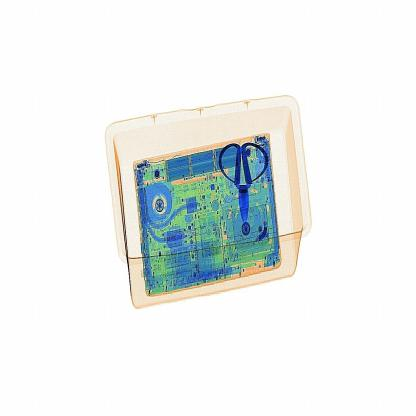gun: (214, 119, 286, 239)
